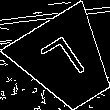L_SE: (38, 32, 94, 92)
